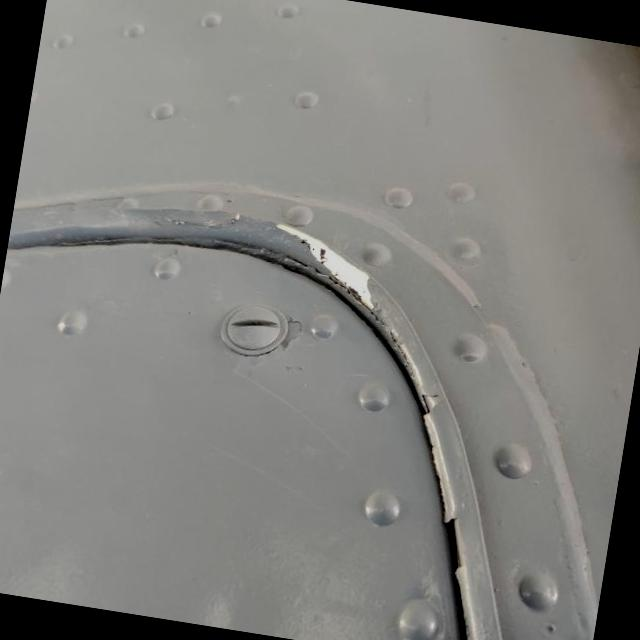paint-off: (252, 205, 408, 327)
